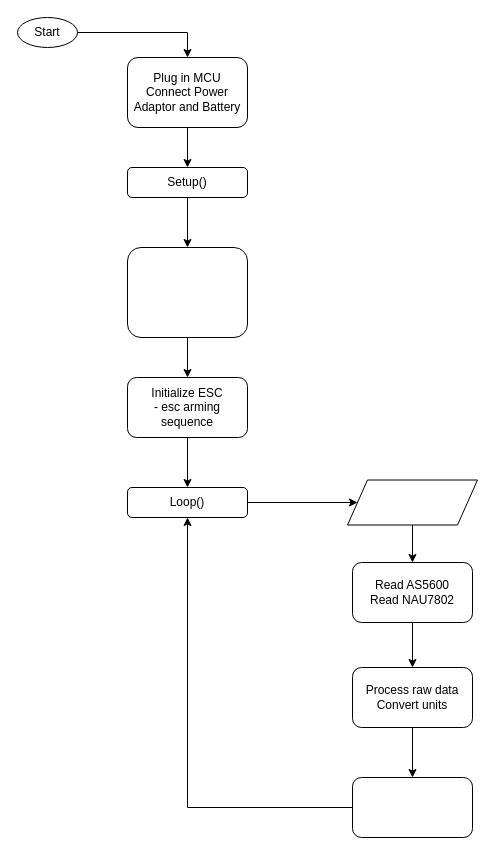
Some shapes in this 495 by 855 pixel diagram are drawn without their labels. The box of each missing label's shape, as (x1, y1, x2, y2) in pixels:
Initialize Sensors - setup I2C - AS5600 Init - NAU7802 Init: (126, 246, 248, 338)
Log & print data: (352, 776, 472, 838)
Set motor speed: (346, 479, 478, 525)
